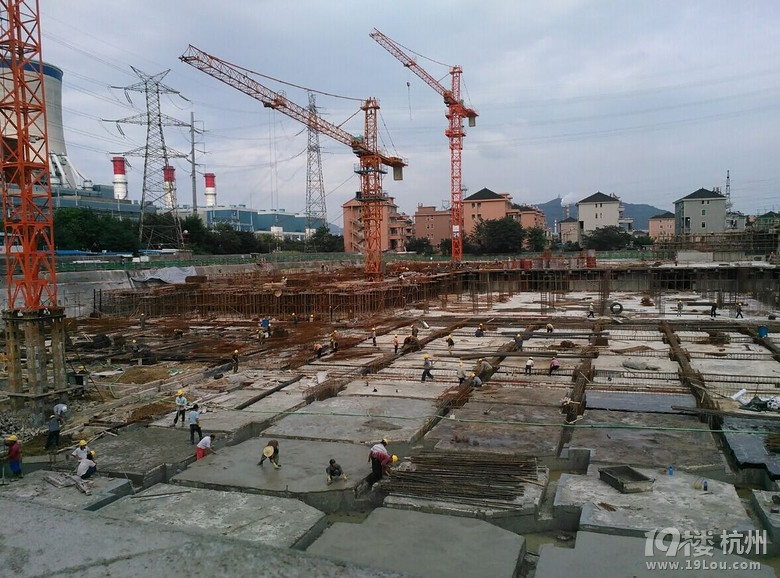none: (328, 458, 336, 467), (85, 452, 93, 460), (208, 433, 215, 441), (192, 404, 199, 412)
yellow: (8, 435, 18, 445), (389, 454, 397, 463), (79, 439, 86, 449), (380, 438, 388, 446), (176, 389, 183, 397), (233, 349, 238, 355), (471, 373, 476, 378)
